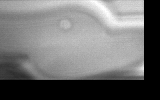cell: (57, 17, 74, 33)
